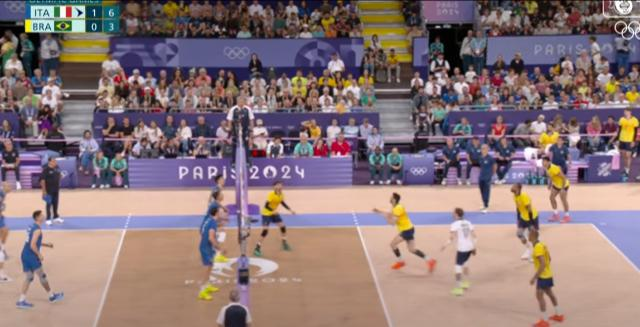Levantador: (254, 180, 294, 258)
Libero: (441, 208, 479, 296)
bola: (336, 100, 346, 117)
